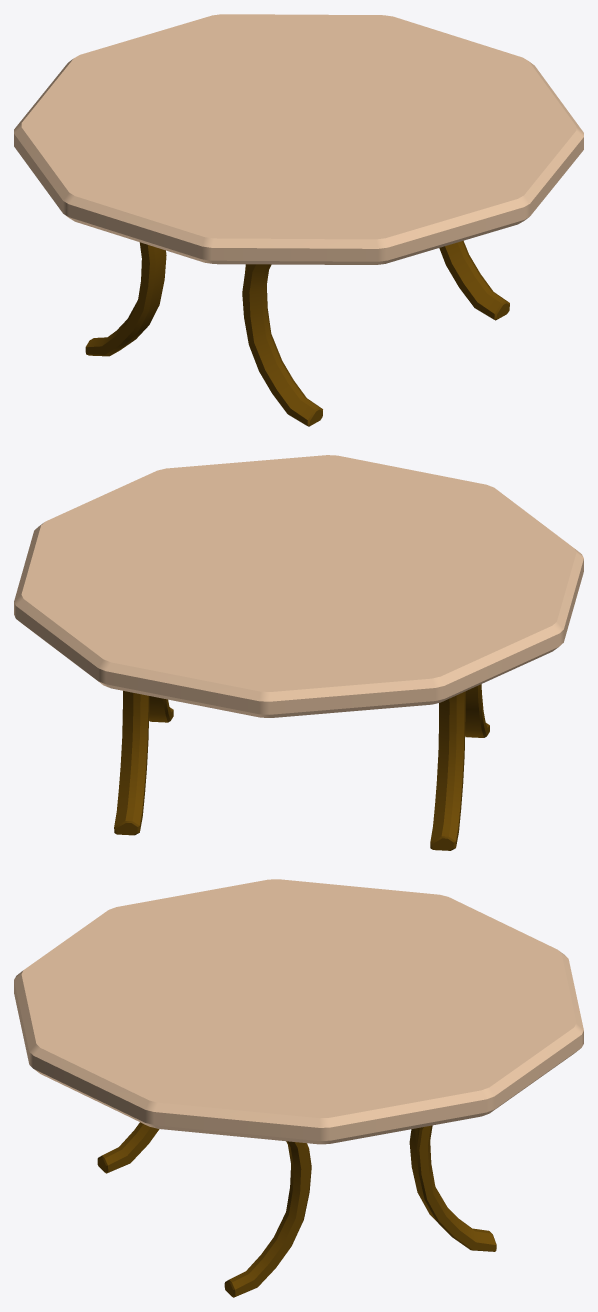
Rendered from table.fbx.
The picture shows the model from 3 angles, top to bottom: view 1: azimuth 30°, elevation 25°; view 2: azimuth 150°, elevation 25°; view 3: azimuth 270°, elevation 25°; orthographic projection. The views are drawn at different scales.
Visible parts, largest first — view 1: table; view 2: table; view 3: table.
Part boxes in pixels (<box>): table: <box>14,14,583,426</box>; table: <box>14,455,583,850</box>; table: <box>14,879,583,1297</box>.
Bounding box in the file's own units: 0.0863 × 0.0347 × 0.0847.
